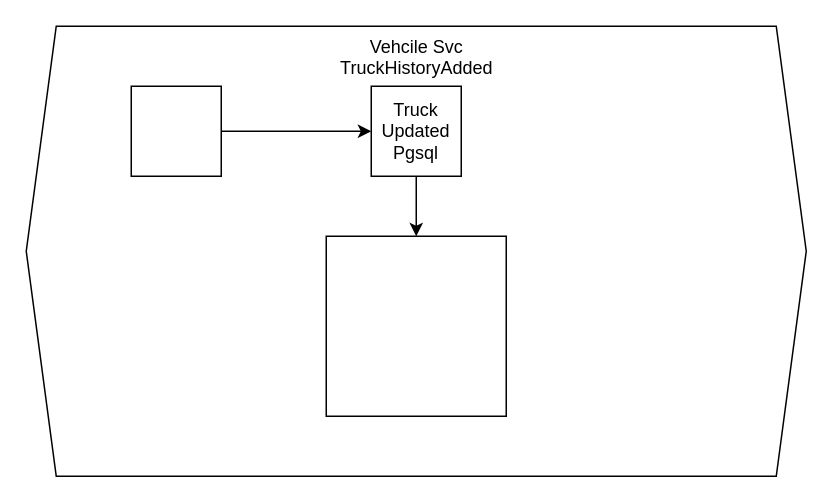
Image size: 833x503. Some labels were removed from this diagram. The shapes that lost their labels are listed below. From the top down, each one's centre as x and y in pixels, then its label:
point 175,130: Add Truck History Pgsql
point 415,325: Publish Topic TRUCKS_UPDATED
